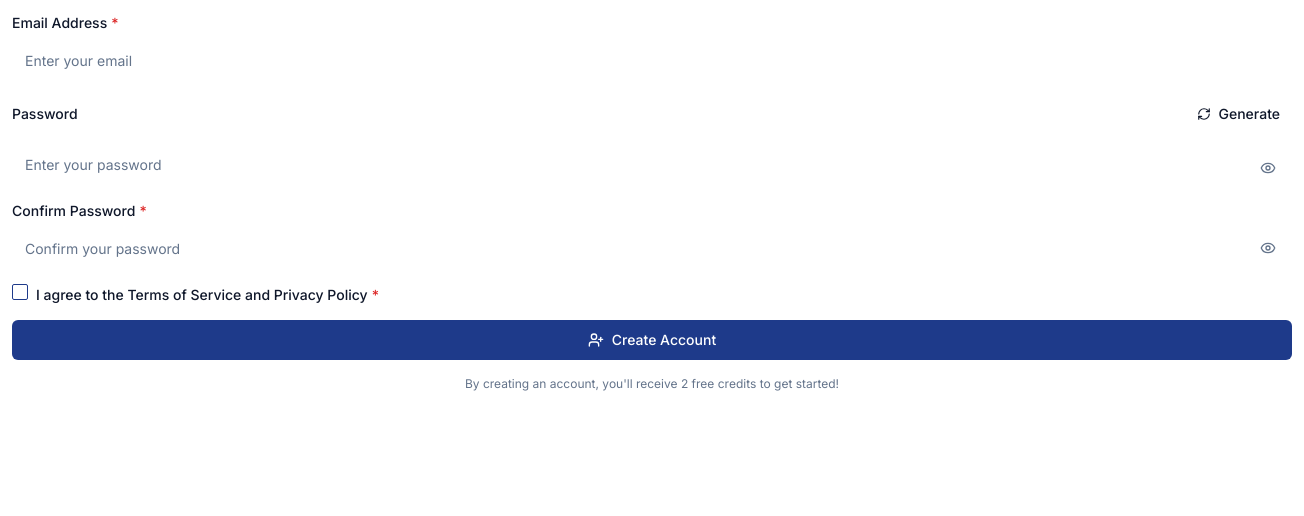
Test case: RegisterForm › should show validation error for invalid email
This screenshot has width=1304, height=516.
In the field labelled "Email Address*": (652,60) [12,40,1292,80], type "invalid-email"
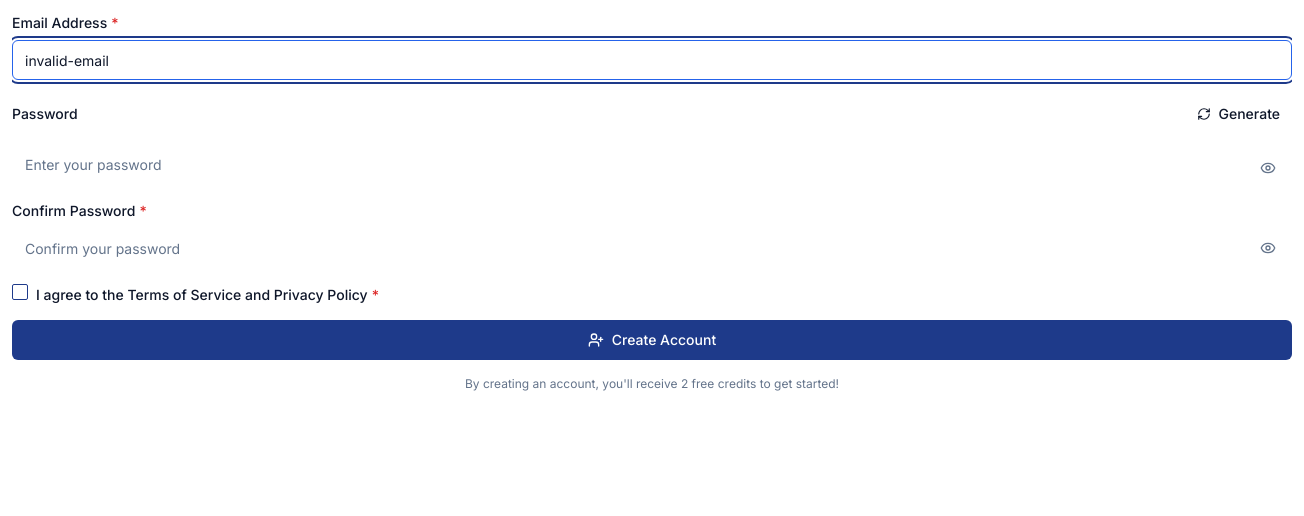
Submit the form
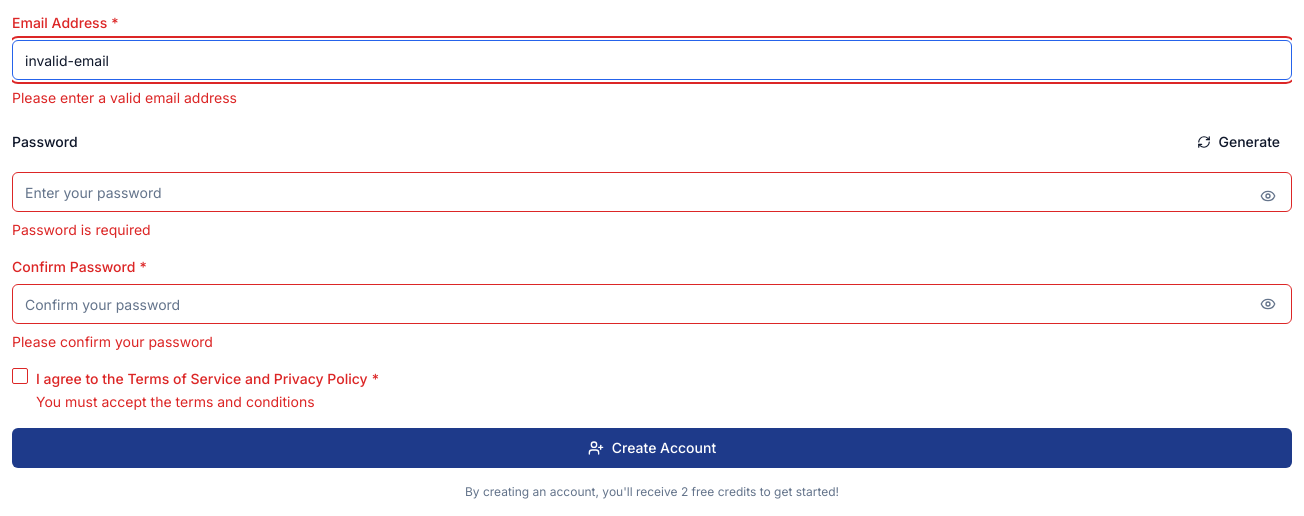
Expected: the text "Please enter a valid email address" is shown, [12,89,237,106]
